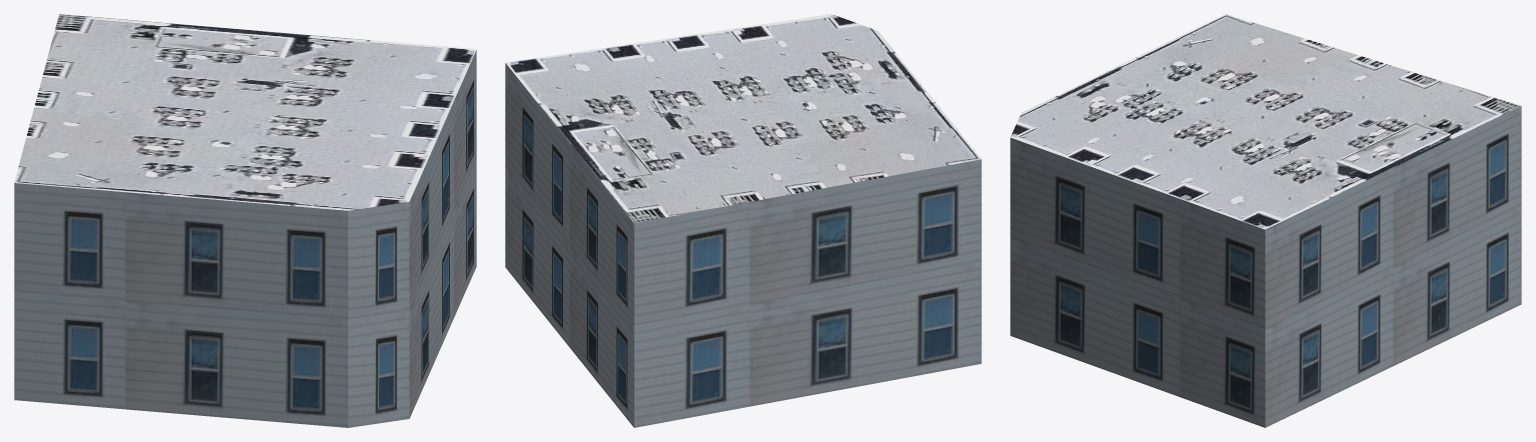
Rendered from ResTex__2995.fbx.
The picture shows the model from 3 angles, left to right: view 1: azimuth 30°, elevation 25°; view 2: azimuth 150°, elevation 25°; view 3: azimuth 270°, elevation 25°; orthographic projection. The views are drawn at different scales.
Visible parts, largest first — view 1: CityEngineMaterial_18_m, CityEngineMaterial_2_m; view 2: CityEngineMaterial_18_m, CityEngineMaterial_2_m; view 3: CityEngineMaterial_18_m, CityEngineMaterial_2_m.
Boxes of the visible parts, <box> form: CityEngineMaterial_18_m: <box>14,50,476,427</box>; CityEngineMaterial_2_m: <box>14,14,476,210</box>; CityEngineMaterial_18_m: <box>505,63,981,427</box>; CityEngineMaterial_2_m: <box>505,14,981,223</box>; CityEngineMaterial_18_m: <box>1010,106,1521,427</box>; CityEngineMaterial_2_m: <box>1010,14,1521,229</box>.
Size of the model in its own units: 14 by 6 by 14.02.
Materials: 2 (2 with a texture image).
